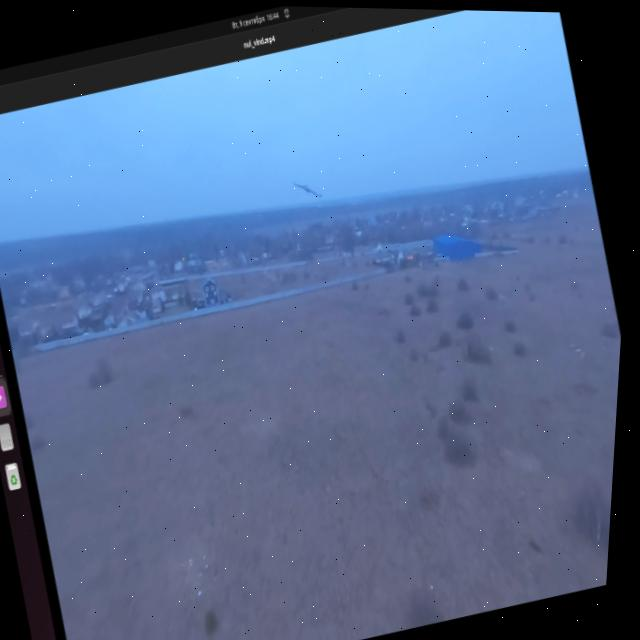planedrone: (288, 170, 327, 209)
